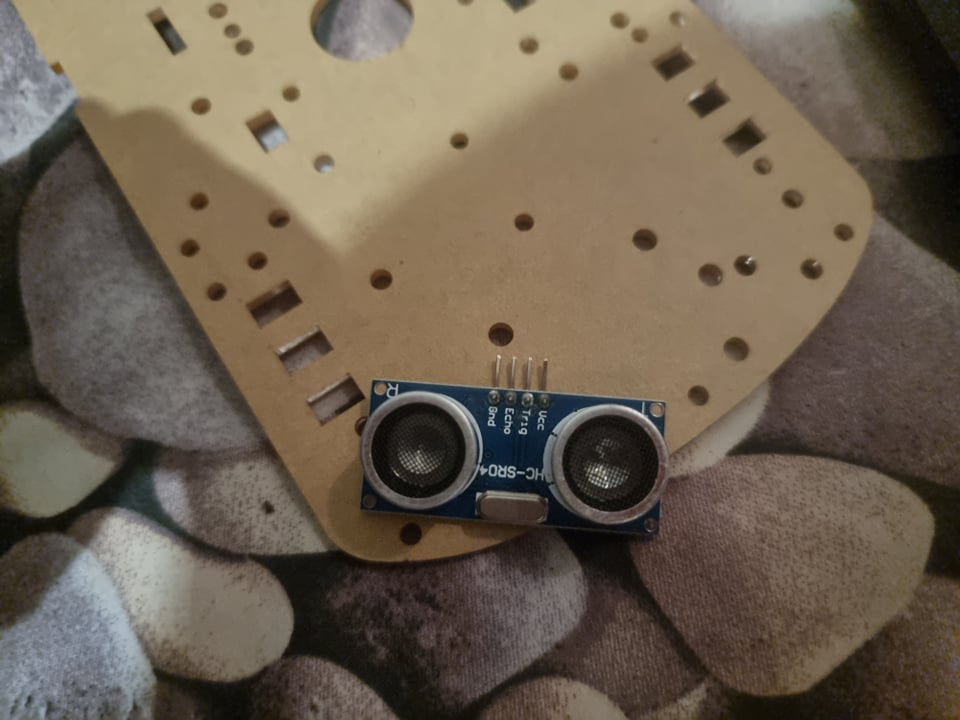SENSOR: (359, 379, 667, 538)
